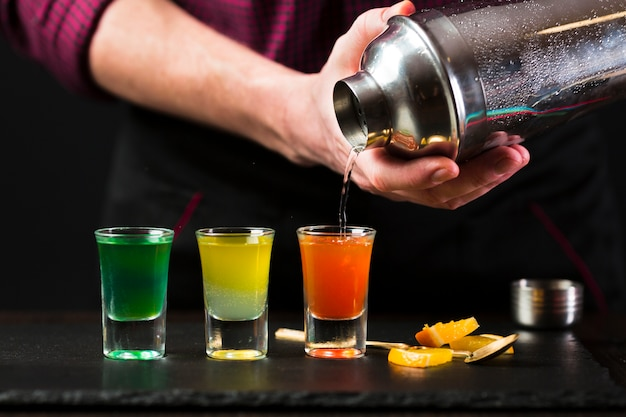alcohol: (296, 222, 379, 357), (195, 224, 276, 362), (93, 226, 174, 358)
